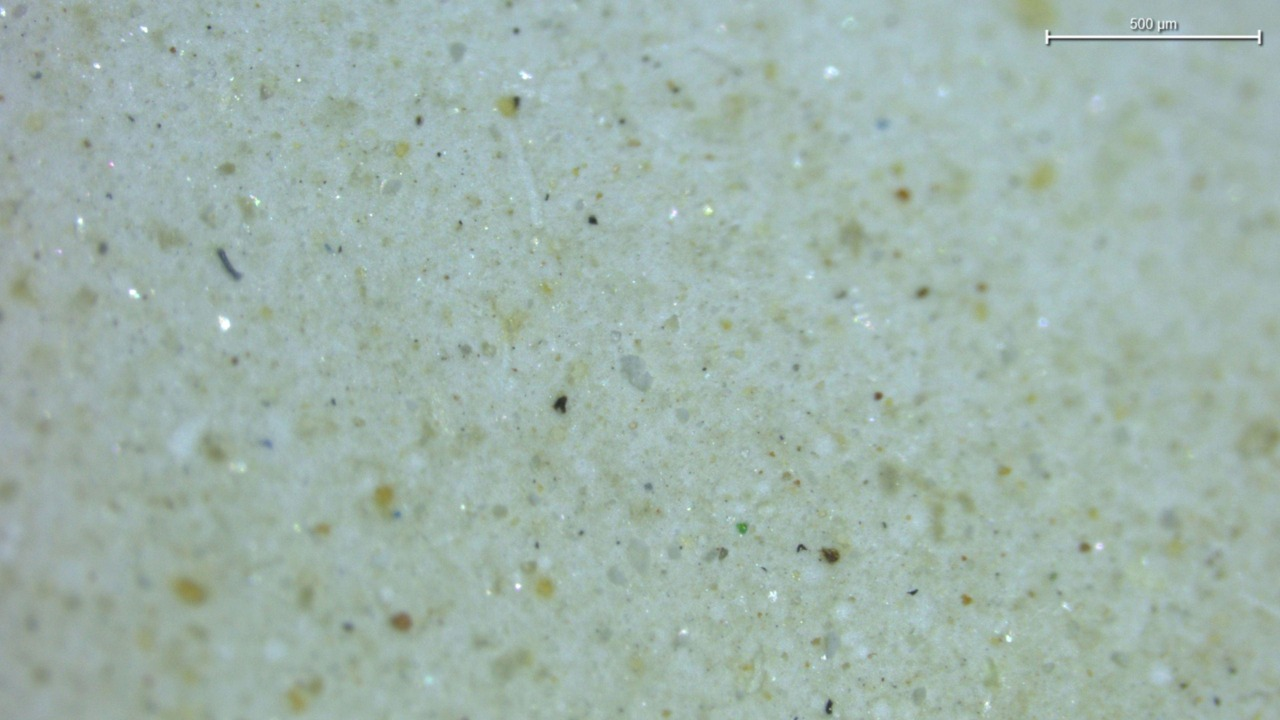microplastic_fragment: (620, 355, 652, 391)
